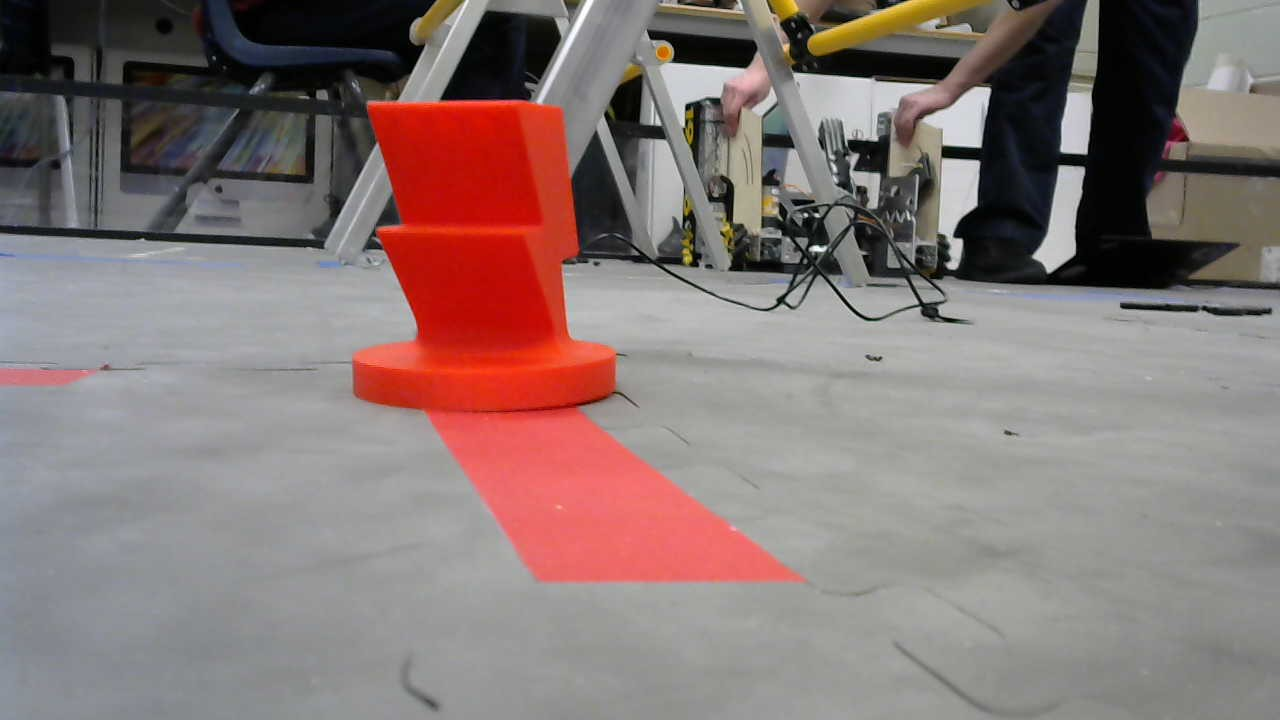redobject: (351, 99, 621, 413)
